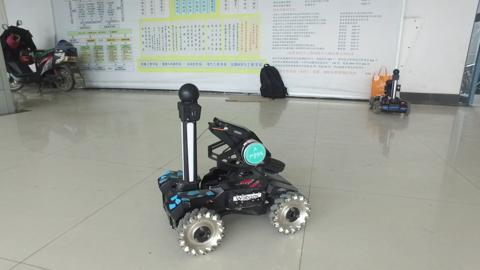bag: (258, 63, 290, 100), (369, 62, 394, 101)
chariot: (156, 81, 311, 258), (366, 68, 412, 116)
